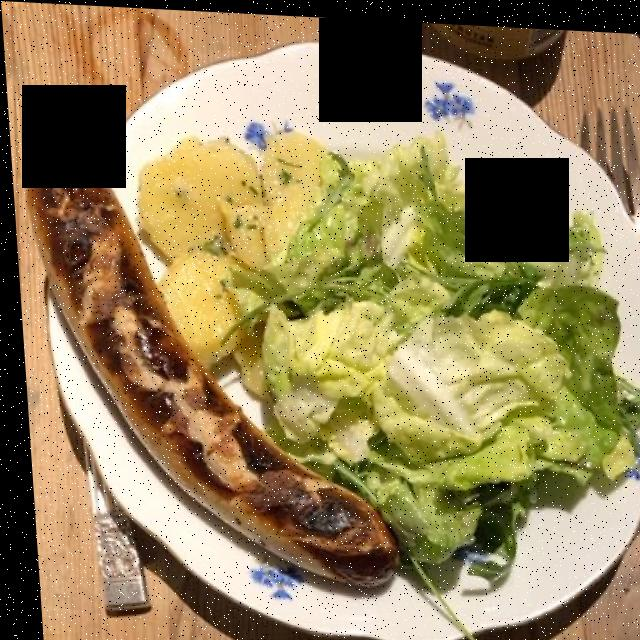potato-salad-with-mayonnaise-yogurt-dressing: (141, 119, 318, 372)
salad-leaf-salad-green: (256, 146, 619, 578)
veal-sausage: (36, 158, 402, 590)
